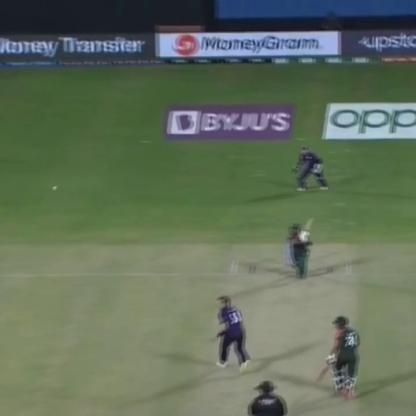ball: (46, 179, 64, 196)
pitch: (209, 236, 364, 416)
